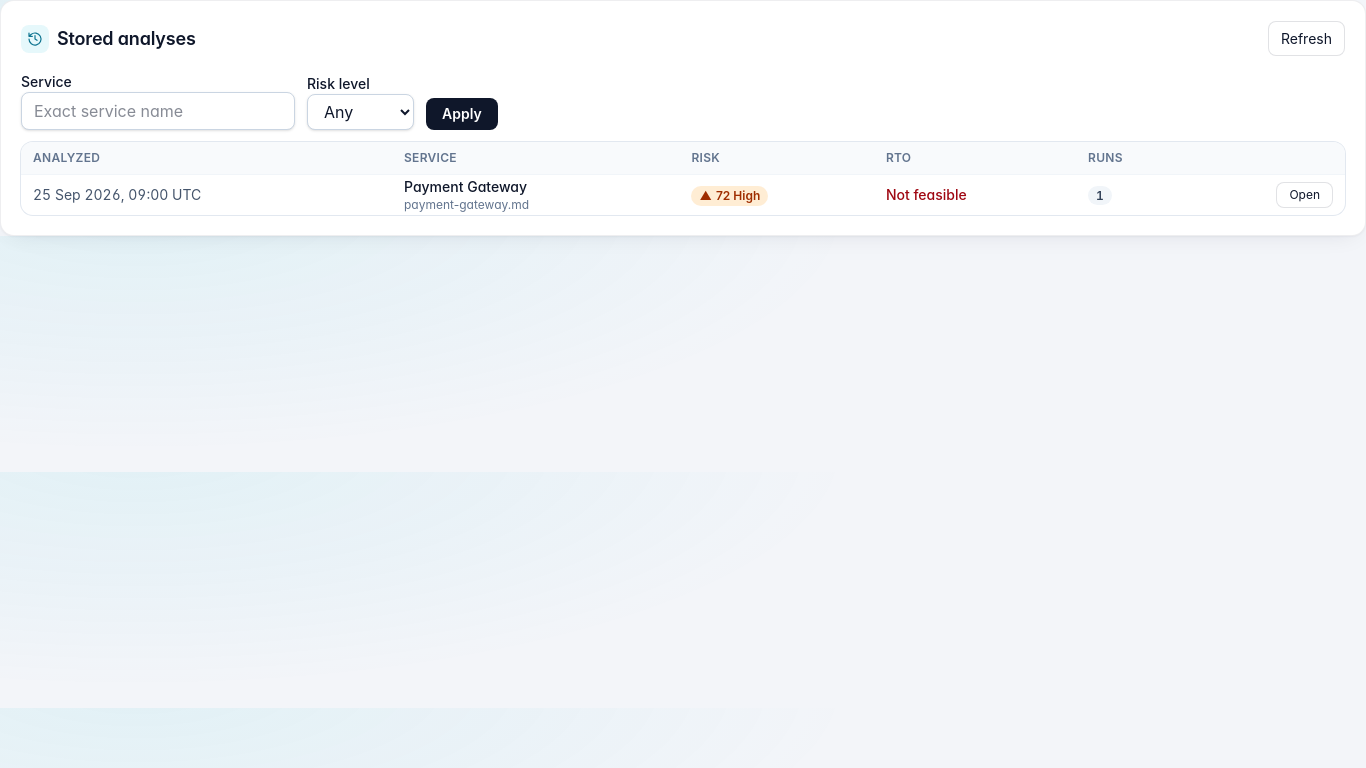
HistoryView › explains when past executions cannot be listed
Click the button with aria-label "Open Payment Gateway analysis from 25 Sep 2026, 09:00 UTC" at [1305, 195], box [1276, 182, 1333, 208]
(page scrolled)
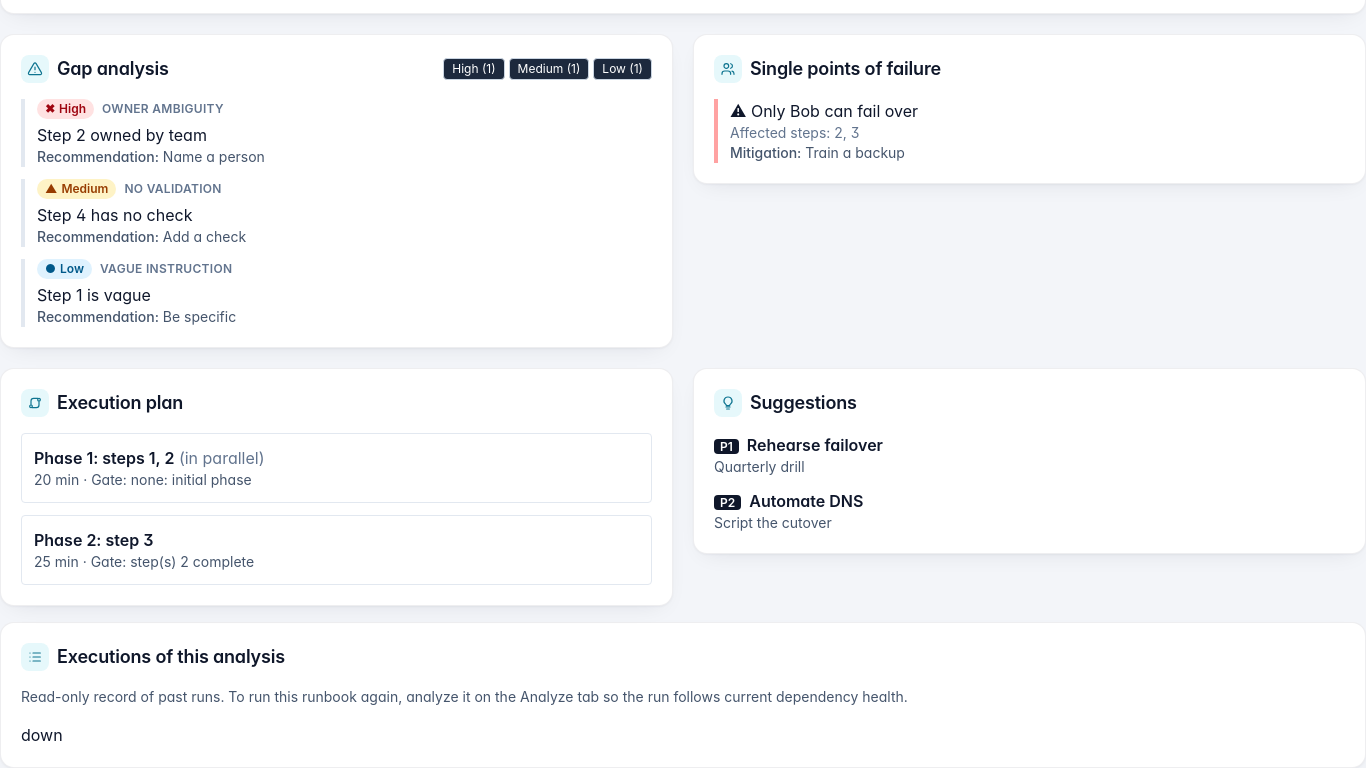
Result: the message reads "down" at [21, 725, 63, 745]
